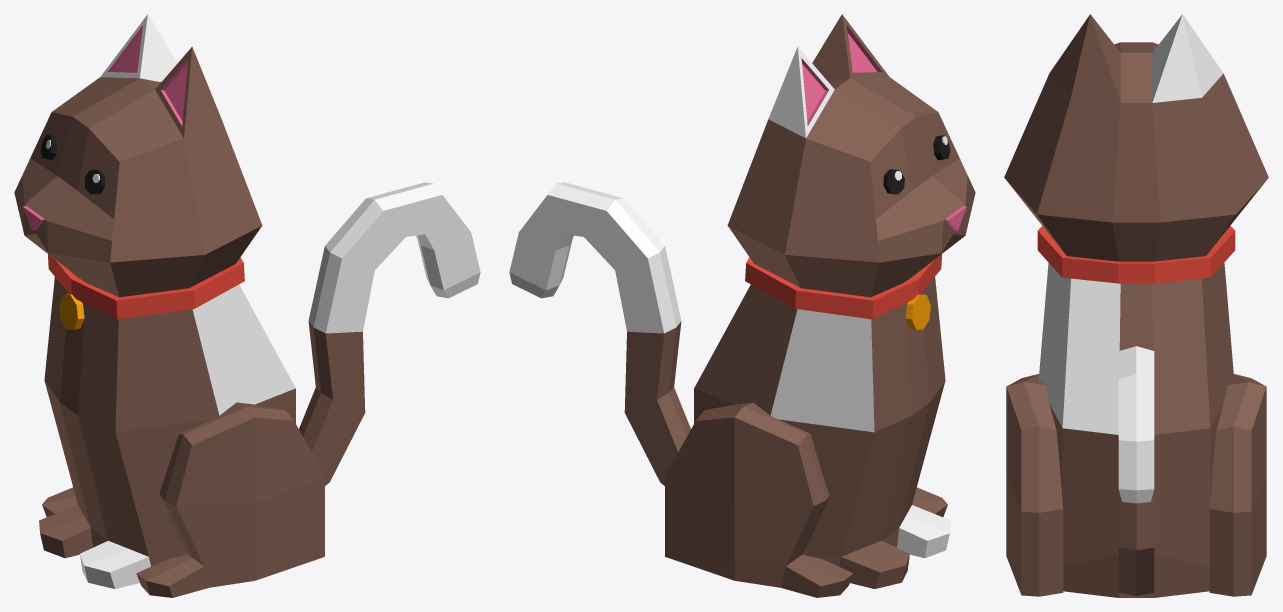
The model's file is cat.glb.
3 views of the same model, side by side, from view 1: azimuth 30°, elevation 25°; view 2: azimuth 150°, elevation 25°; view 3: azimuth 270°, elevation 25° (orthographic). The views are drawn at different scales.
Parts seen in each view (by area): view 1: node-0; view 2: node-0; view 3: node-0.
Boxes of the visible parts, box(x1,y1,x2,y2) form: node-0: box(14, 14, 480, 597); node-0: box(509, 14, 975, 597); node-0: box(1004, 14, 1268, 597).
Size of the model in its own units: 175 by 193 by 87.04.
